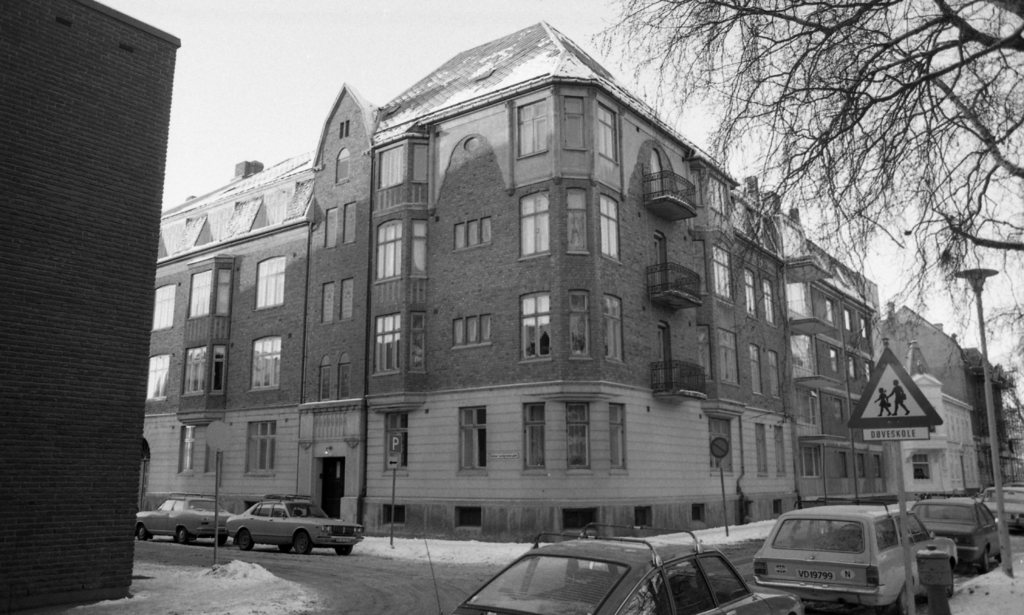Car: (448, 484, 1023, 614), (456, 526, 799, 614), (750, 501, 961, 614), (224, 497, 363, 557), (910, 495, 1005, 571), (131, 496, 228, 542), (984, 487, 1023, 536)
